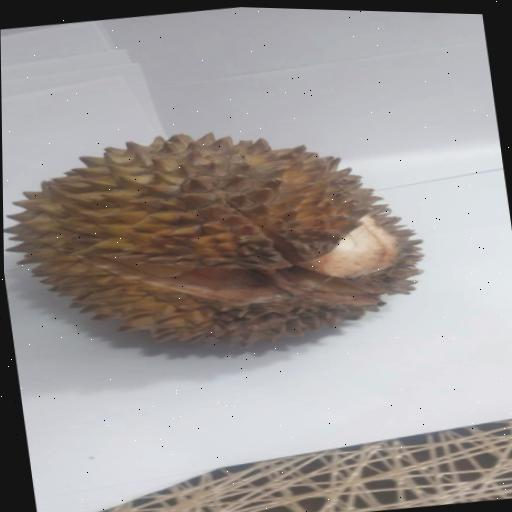rot: (1, 78, 454, 397)
